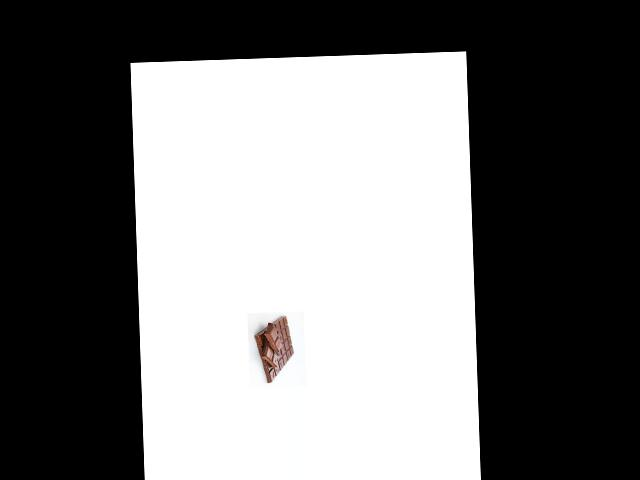chocolate: (250, 314, 298, 384)
